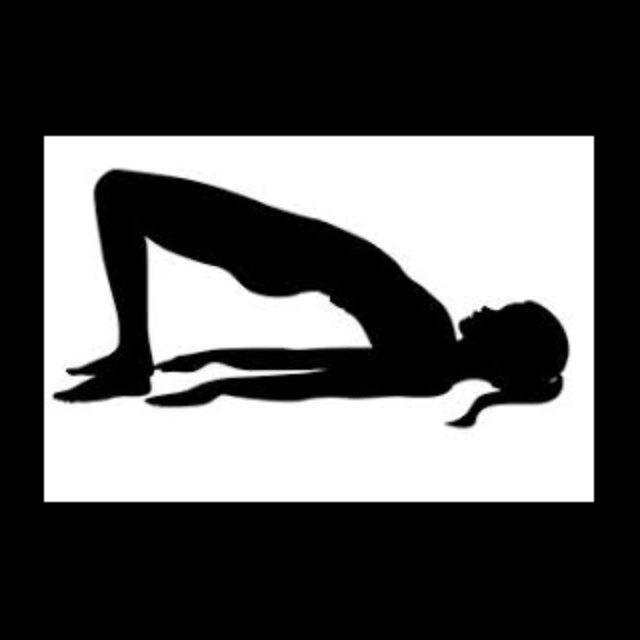Bridge_Pose: (51, 162, 567, 429)
